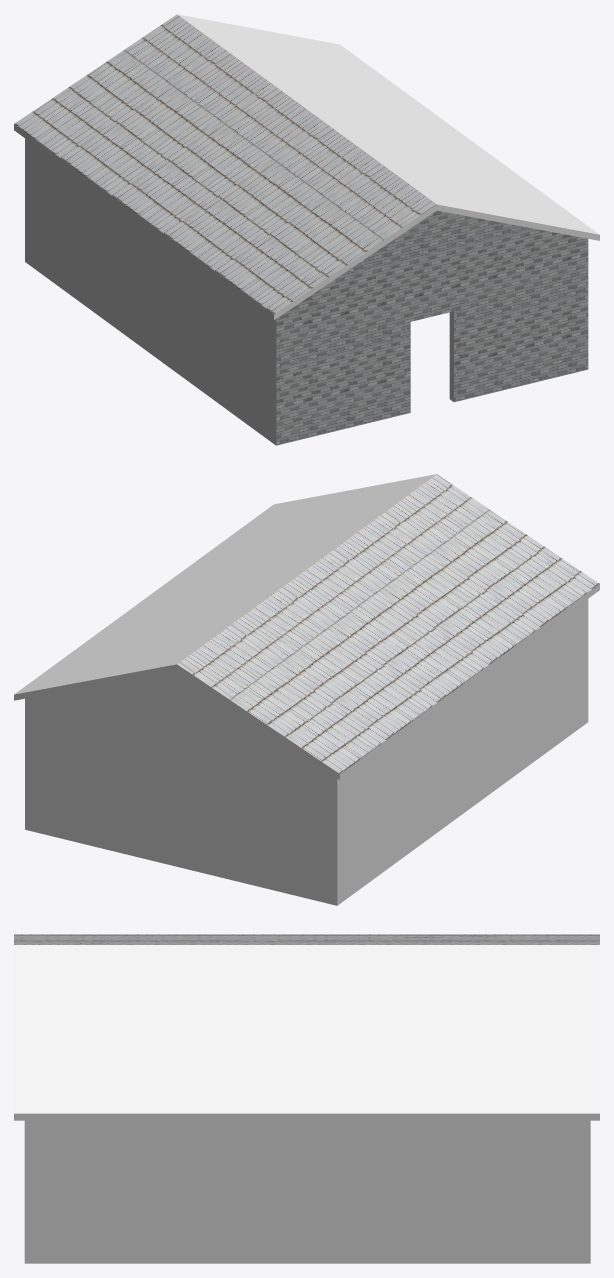
The model's file is housetest.dae.
The picture shows the model from 3 angles, top to bottom: view 1: azimuth 30°, elevation 25°; view 2: azimuth 150°, elevation 25°; view 3: azimuth 270°, elevation 25°; orthographic projection. The views are drawn at different scales.
Visible parts, largest first — view 1: SketchUp (×3), group_0; view 2: SketchUp (×3); view 3: SketchUp (×3).
Part boxes in pixels (<box>): SketchUp (×3): <box>14,14,599,445</box>; group_0: <box>276,210,588,445</box>; SketchUp (×3): <box>14,474,599,905</box>; SketchUp (×3): <box>14,934,599,1263</box>.
Size of the model in its own units: 360 by 497 by 218.
Materials: 4 (2 with a texture image).
